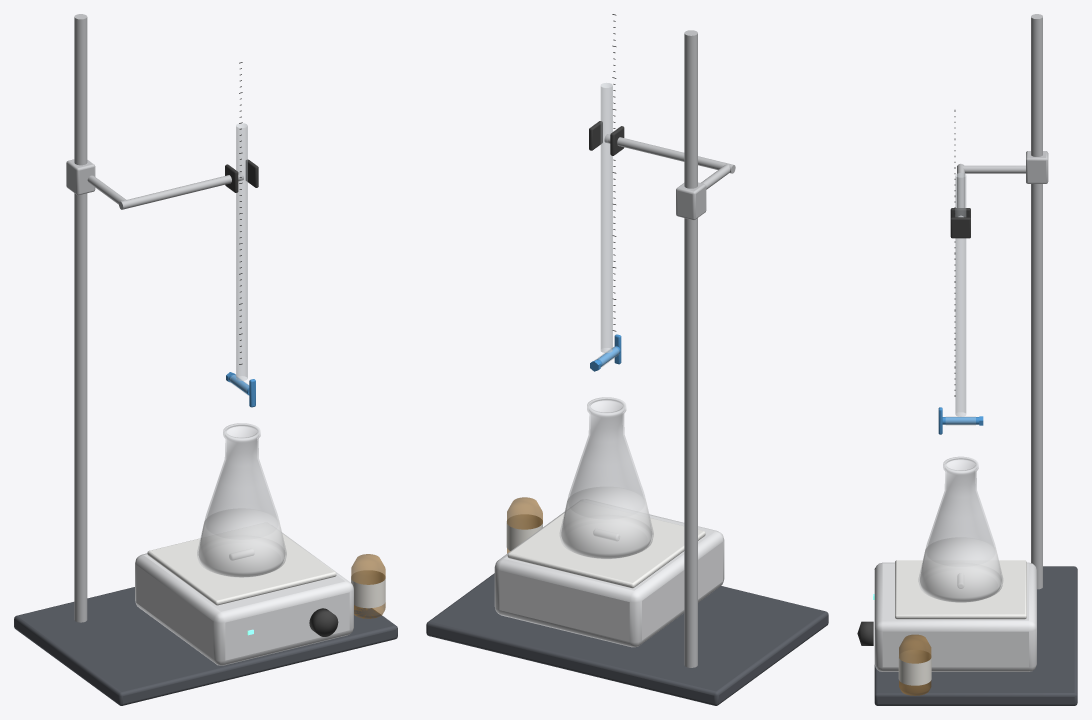
File: titration-rig.glb
3 views of the same model, side by side, from view 1: azimuth 30°, elevation 25°; view 2: azimuth 150°, elevation 25°; view 3: azimuth 270°, elevation 25° (orthographic). The views are drawn at different scales.
Parts seen in each view (by area): view 1: stand_base, stirrer_body, flask_glass, stand_rod, stirrer_top, chem_flask_liquid, burette_naoh, bottle, label, clamp_arm_x, boss_head, knob_mesh; view 2: stand_base, stirrer_body, flask_glass, stand_rod, stirrer_top, chem_flask_liquid, burette_naoh, clamp_arm_x, bottle, boss_head, label; view 3: stand_base, stirrer_body, flask_glass, stand_rod, stirrer_top, chem_flask_liquid, burette_naoh, bottle, label, boss_head, clamp_arm, clamp_jaw.001 (+1 smaller).
Part boxes in pixels (<box>): stand_base: <box>14,587,397,705</box>; stirrer_body: <box>135,532,353,665</box>; flask_glass: <box>197,423,286,577</box>; stand_rod: <box>74,14,87,622</box>; stirrer_top: <box>147,523,336,605</box>; chem_flask_liquid: <box>198,508,285,577</box>; burette_naoh: <box>236,123,247,380</box>; bottle: <box>351,554,385,618</box>; label: <box>351,570,385,608</box>; clamp_arm_x: <box>119,172,243,209</box>; boss_head: <box>66,159,95,195</box>; knob_mesh: <box>309,608,338,636</box>; stand_base: <box>426,573,828,705</box>; stirrer_body: <box>494,499,724,647</box>; flask_glass: <box>559,397,653,558</box>; stand_rod: <box>684,30,697,667</box>; stirrer_top: <box>507,501,705,588</box>; chem_flask_liquid: <box>561,487,652,558</box>; burette_naoh: <box>600,83,612,352</box>; clamp_arm_x: <box>604,134,735,173</box>; bottle: <box>507,497,542,553</box>; boss_head: <box>676,182,706,220</box>; label: <box>506,514,542,550</box>; stand_base: <box>874,566,1077,705</box>; stirrer_body: <box>874,562,1036,671</box>; flask_glass: <box>918,457,1003,602</box>; stand_rod: <box>1031,14,1042,589</box>; stirrer_top: <box>895,560,1026,619</box>; chem_flask_liquid: <box>920,537,1001,602</box>; burette_naoh: <box>955,173,966,416</box>; bottle: <box>899,634,931,695</box>; label: <box>898,650,931,685</box>; boss_head: <box>1026,151,1048,183</box>; clamp_arm: <box>961,165,1025,173</box>; clamp_jaw.001: <box>950,217,970,238</box>.
Bounding box in the file's own units: 0.3062 × 0.634 × 0.217.
